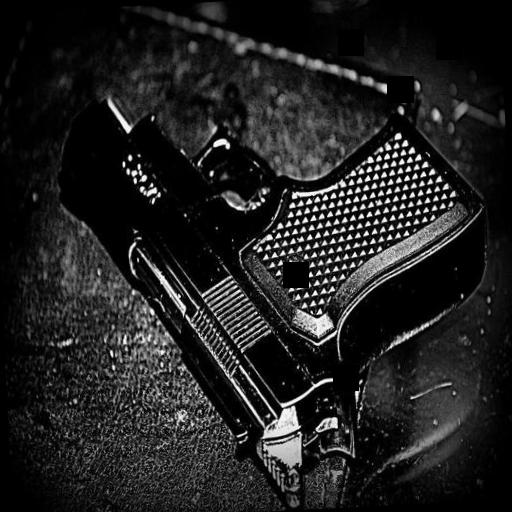Handgun: (48, 63, 496, 491)
